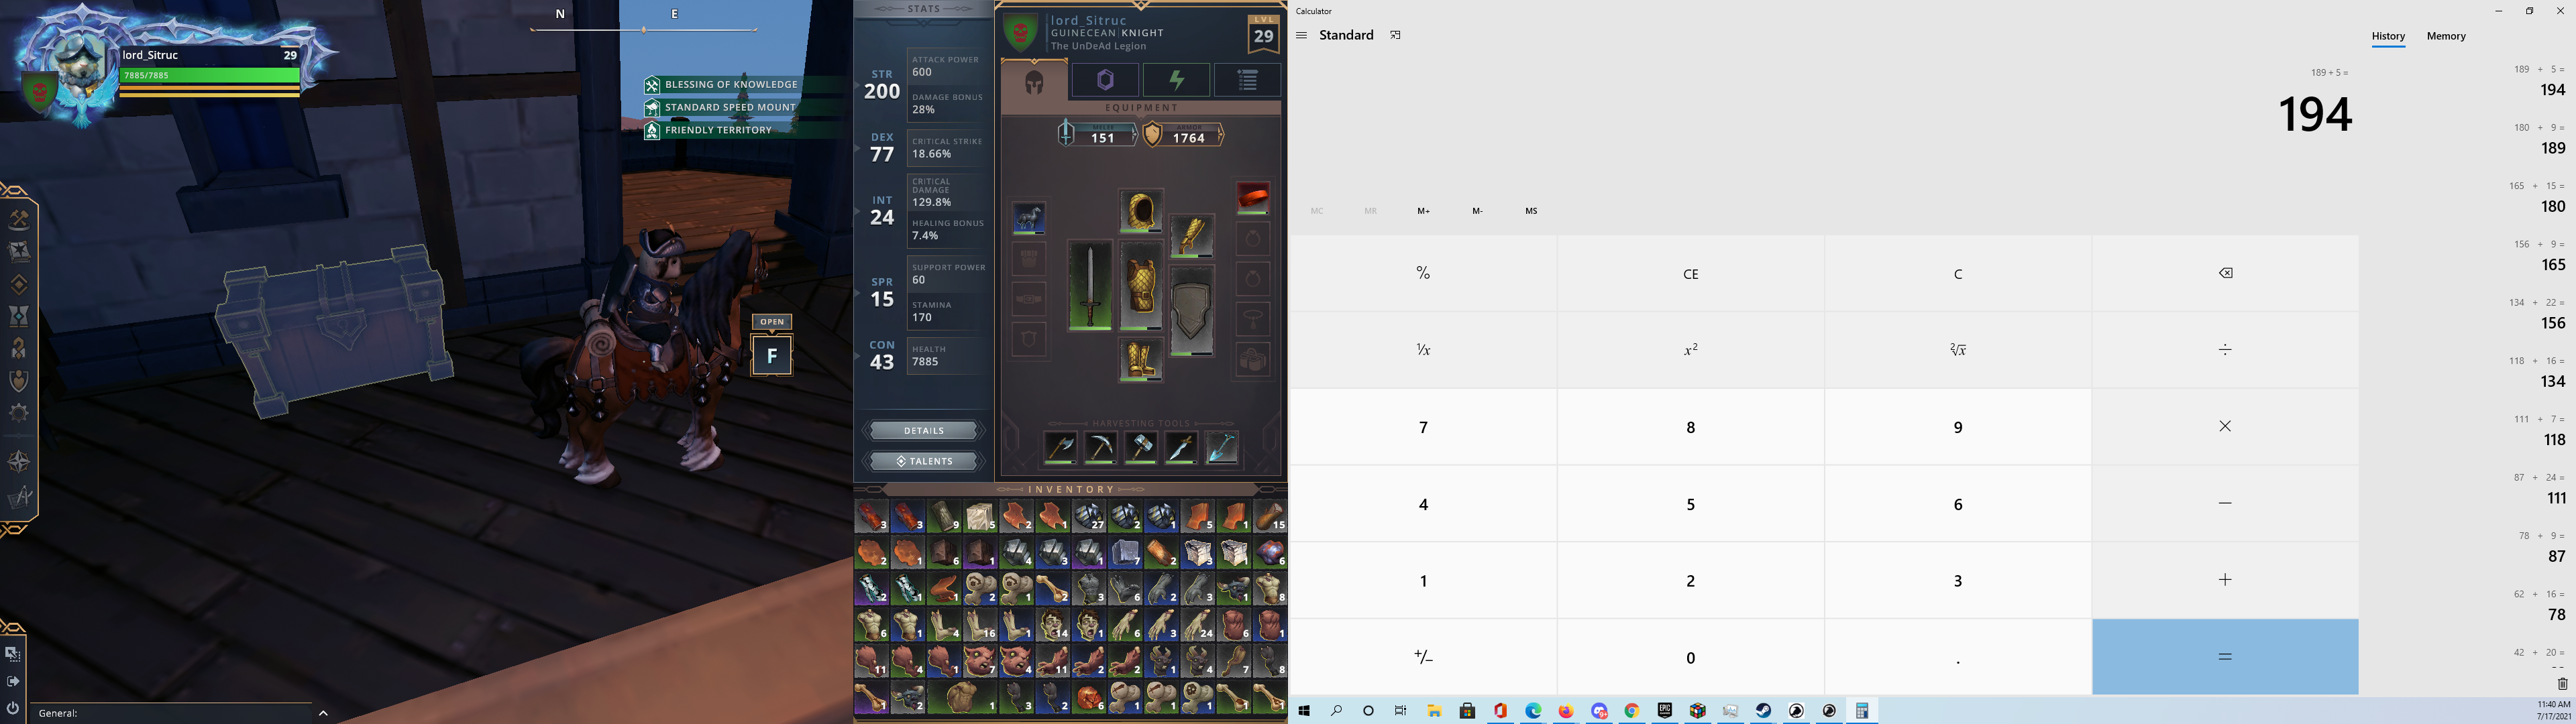ash log: (927, 497, 963, 532)
birch log: (854, 570, 889, 606), (892, 570, 927, 606)
copper ore: (1071, 680, 1107, 714)
flexible hide: (927, 570, 963, 607)
granite stone: (1107, 534, 1143, 570)
iron ore: (1253, 534, 1288, 570)
limestone stone: (1178, 535, 1216, 570), (1216, 535, 1252, 570)
oak log: (1143, 535, 1180, 570)
silver ore: (997, 534, 1035, 570), (1069, 534, 1107, 570), (1035, 535, 1071, 570)
slate stone: (927, 534, 963, 570), (963, 534, 999, 570)
soft hide: (892, 534, 927, 570), (854, 535, 889, 570)
spruce log: (1253, 499, 1286, 534)
strong hide: (1181, 497, 1217, 535), (1217, 499, 1252, 534)
tin ore: (1143, 497, 1180, 534), (1071, 497, 1107, 532), (1107, 497, 1142, 534)
tough hide: (1000, 497, 1035, 534), (1035, 497, 1071, 532)
travertine stone: (964, 497, 999, 535)
yew log: (853, 497, 890, 535), (892, 499, 925, 534)
